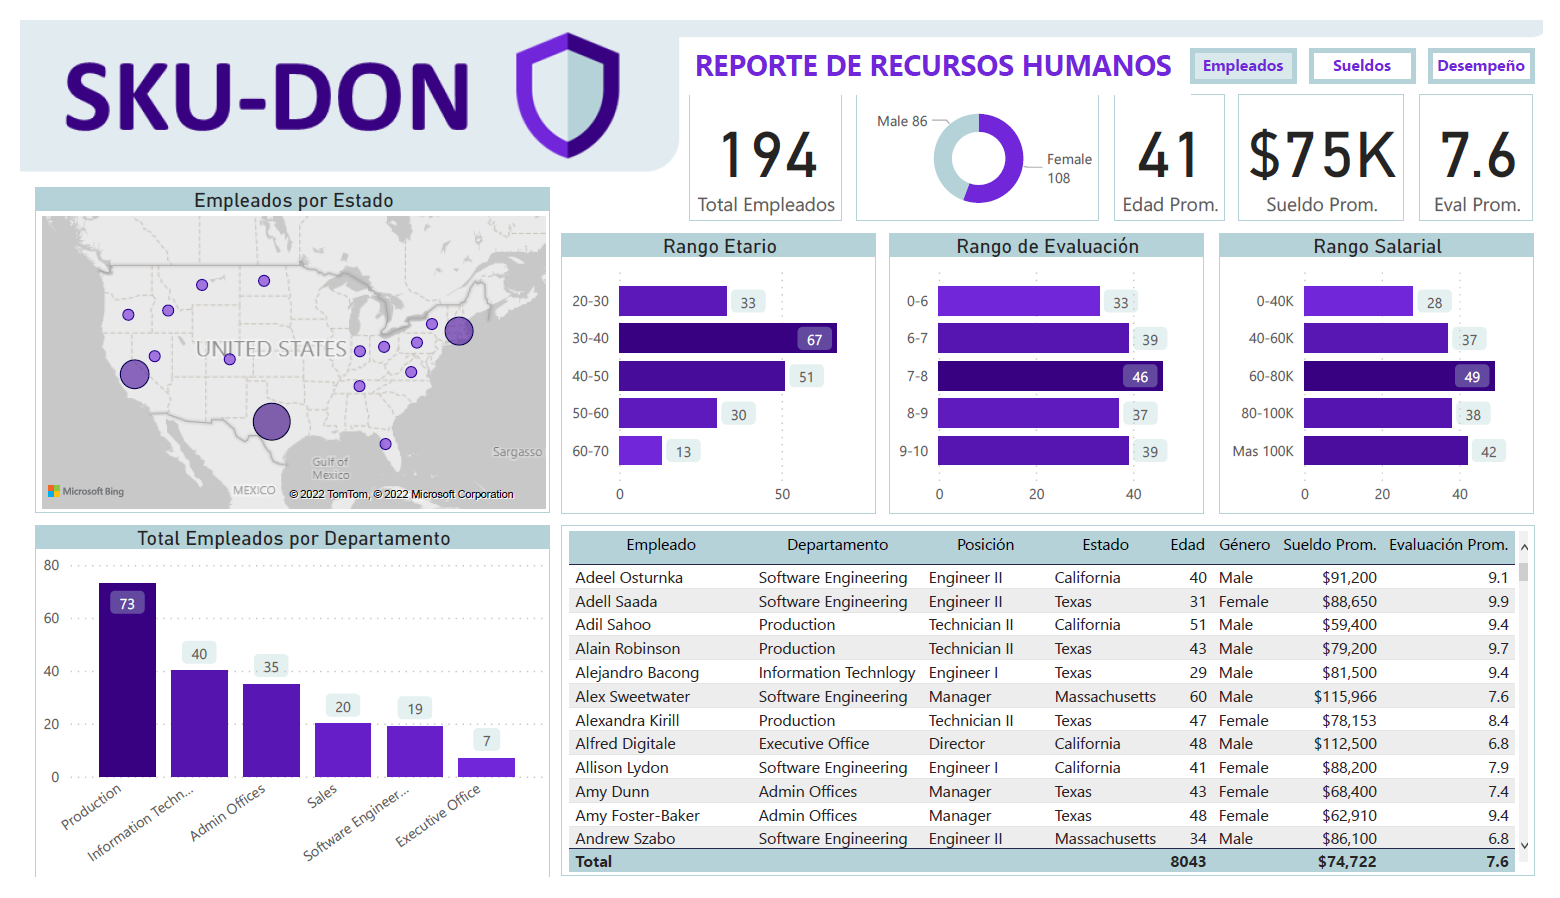

The page's visual inventory and layout, read from the dashboard file:
{"tool":"powerbi","page":{"name":"Análisis Empleados","canvas":[1280,720],"ordinal":0},"visuals":[{"type":"tableEx","fields":{"Values":["Tabla Empleados.Empleado","Tabla Empleados.Departamento","Tabla Empleados.Posición","Tabla Empleados.Estado","Sum(Tabla Empleados.Edad)","Tabla Empleados.Género","_Medidas.Promedio de Sueldo","_Medidas.Promedio desempeño"]},"box":[454.5,424.2,819.1,295.7],"z":0},{"type":"card","fields":{"Values":["_Medidas.Total Empleados"]},"box":[562,61.5,128.6,107.4],"z":1000},{"type":"donutChart","fields":{"Category":["Tabla Empleados.Género"],"Y":["_Medidas.Total Empleados"]},"box":[702.2,61.5,204.8,107.4],"z":2000},{"type":"columnChart","title":"Total Empleados por Departamento","fields":{"Category":["Tabla Empleados.Departamento"],"Y":["_Medidas.Total Empleados"]},"box":[11.9,424.2,433.4,296.6],"z":3000},{"type":"map","title":"Empleados por Estado","fields":{"Category":["Tabla Empleados.Estado"],"Size":["_Medidas.Total Empleados"]},"box":[11.9,139.6,433.4,275.5],"z":4000},{"type":"card","fields":{"Values":["_Medidas.Sueldo Promedio"]},"box":[1024,61.5,140.5,107.4],"z":5000},{"type":"card","fields":{"Values":["_Medidas.Evaluación Promedio"]},"box":[1176.2,61.5,96.4,107.4],"z":6000},{"type":"card","fields":{"Values":["_Medidas.Edad Promedio"]},"box":[919.1,61.5,93.7,107.4],"z":7000},{"type":"clusteredBarChart","title":"Rango Etario","fields":{"Y":["_Medidas.Total Empleados"],"Category":["Tabla Empleados.Grupo Etario"]},"box":[454.5,178.1,265.4,236.9],"z":8000},{"type":"clusteredBarChart","title":"Rango Salarial","fields":{"Y":["_Medidas.Total Empleados"],"Category":["Tabla Sueldo.Grupo Sueldo"]},"box":[734.4,178.2,265.2,237.1],"z":9000},{"type":"clusteredBarChart","title":"Rango de Evaluación","fields":{"Y":["_Medidas.Total Empleados"],"Category":["Tabla Evaluacion.Grupo Evaluacion"]},"box":[1014,178.2,266,237.1],"z":10000},{"type":"textbox","box":[562,15.6,422.4,45.9],"z":11000},{"type":"actionButton","title":"Empleados","box":[1184.5,23.7,88.7,29],"z":12000},{"type":"actionButton","title":"Empleados","box":[1084.4,23.7,88.7,29],"z":13000},{"type":"actionButton","title":"Empleados","box":[984.3,23.7,88.7,29],"z":14000}]}

Visuals, with their boxes in screenshot pixels (x1, y1, x2, y2), scaled from the page's 1280x720 canvas onto the 1560x898 screenshot:
tableEx - Tabla Empleados.Empleado x Tabla Empleados.Departamento: bbox=(554, 529, 1552, 897)
card - _Medidas.Total Empleados: bbox=(685, 77, 842, 211)
donutChart - Tabla Empleados.Género x _Medidas.Total Empleados: bbox=(856, 77, 1105, 211)
"Total Empleados por Departamento" columnChart: bbox=(15, 529, 543, 897)
"Empleados por Estado" map: bbox=(15, 174, 543, 518)
card - _Medidas.Sueldo Promedio: bbox=(1248, 77, 1419, 211)
card - _Medidas.Evaluación Promedio: bbox=(1433, 77, 1551, 211)
card - _Medidas.Edad Promedio: bbox=(1120, 77, 1234, 211)
"Rango Etario" clusteredBarChart: bbox=(554, 222, 877, 518)
"Rango Salarial" clusteredBarChart: bbox=(895, 222, 1218, 518)
"Rango de Evaluación" clusteredBarChart: bbox=(1236, 222, 1559, 518)
textbox: bbox=(685, 19, 1200, 77)
"Empleados" actionButton: bbox=(1444, 30, 1552, 66)
"Empleados" actionButton: bbox=(1322, 30, 1430, 66)
"Empleados" actionButton: bbox=(1200, 30, 1308, 66)
